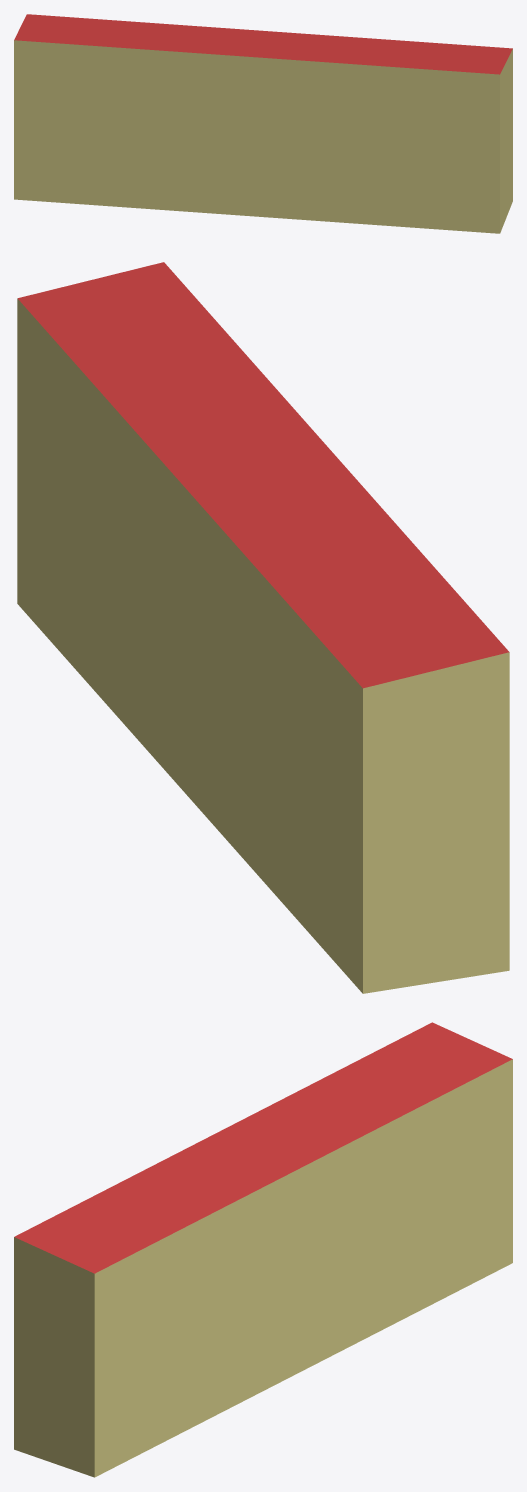
3 renders of one model, top to bottom at view 1: azimuth 30°, elevation 25°; view 2: azimuth 150°, elevation 25°; view 3: azimuth 270°, elevation 25°, orthographic. The views are drawn at different scales.
Visible parts, largest first — view 1: group_4, group_3; view 2: group_4, group_3; view 3: group_4, group_3.
Boxes of the visible parts, x1=… form: group_4: x1=14, y1=40, x2=512, y2=233; group_3: x1=14, y1=14, x2=512, y2=74; group_4: x1=17, y1=298, x2=509, y2=993; group_3: x1=18, y1=262, x2=509, y2=688; group_4: x1=14, y1=1059, x2=512, y2=1477; group_3: x1=14, y1=1022, x2=512, y2=1273.
Bounding box in the file's own units: 19.53 × 16.97 × 7.98.
